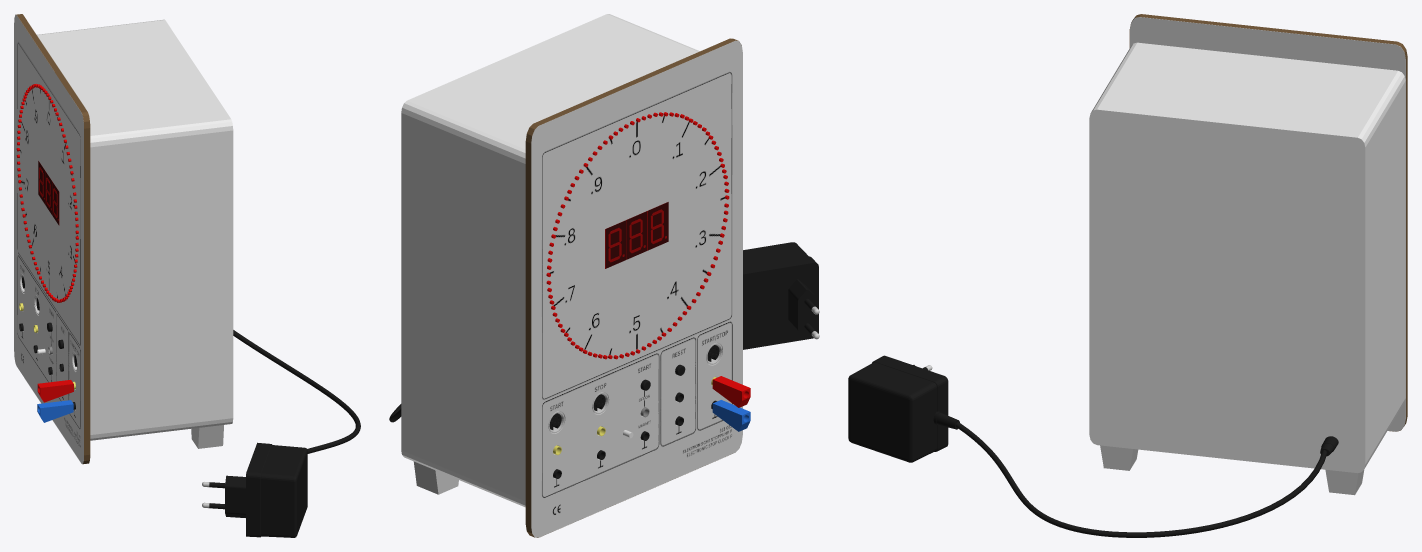
Rendered from StopWatchFinal.glb.
3 renders of one model, left to right at view 1: azimuth 30°, elevation 25°; view 2: azimuth 150°, elevation 25°; view 3: azimuth 270°, elevation 25°, orthographic. The views are drawn at different scales.
Visible parts, largest first — view 1: BodyFront.001; view 2: BodyFront.001; view 3: BodyFront.001.
Boxes of the visible parts, x1,y1,x2,y2 form: BodyFront.001: [14, 14, 360, 537]; BodyFront.001: [389, 14, 819, 537]; BodyFront.001: [848, 14, 1407, 537].
Size of the model in its own units: 0.2536 by 0.3002 by 0.3928.
Materials: 15 (1 with a texture image).
